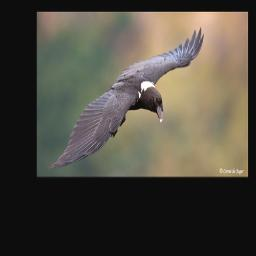Crow: (48, 26, 205, 172)
